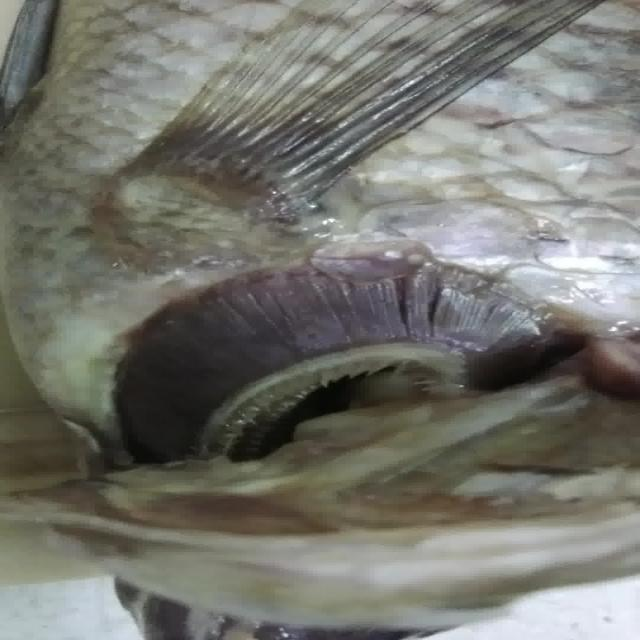Non-Fresh: (63, 249, 577, 465)
